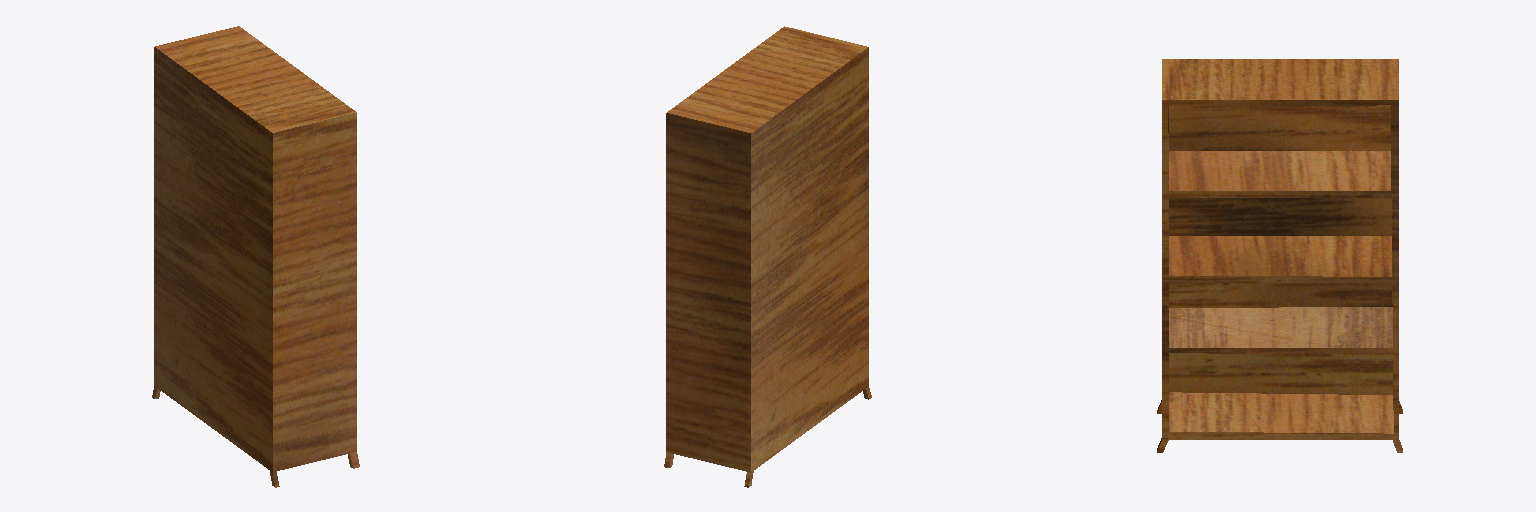
3 renders of one model, left to right at view 1: azimuth 30°, elevation 25°; view 2: azimuth 150°, elevation 25°; view 3: azimuth 270°, elevation 25°, orthographic.
Visible parts, largest first — view 1: Cube; view 2: Cube; view 3: Cube.
Part boxes in pixels (x1,y1,x2,y2): Cube: (152, 26, 359, 487); Cube: (664, 26, 871, 487); Cube: (1157, 59, 1402, 452).
Bounding box in the file's own units: 2 × 7.96 × 5.05.
1 materials, 1 textured.